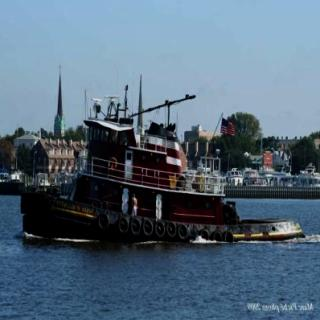Tug Boat: (23, 63, 295, 243)
